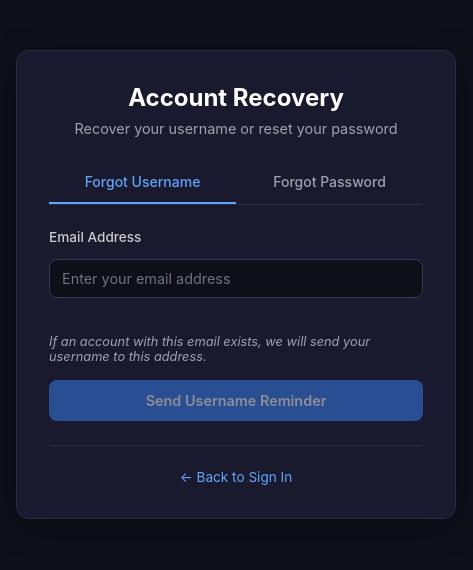
ForgotCredentialsView › submits forgot password request
This screenshot has width=473, height=570.
Click the tab with test id "tab-password".
click(330, 182)  # box 236,160 -> 423,204
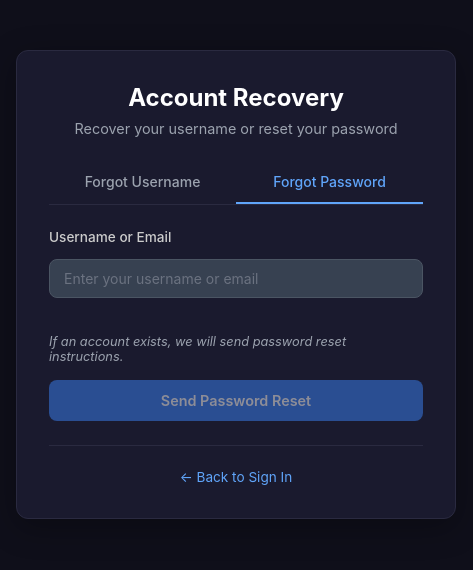
Type "testuser" into the field with test id "forgot-username-or-email".
click(236, 278); type("testuser")  # box 49,258 -> 423,298
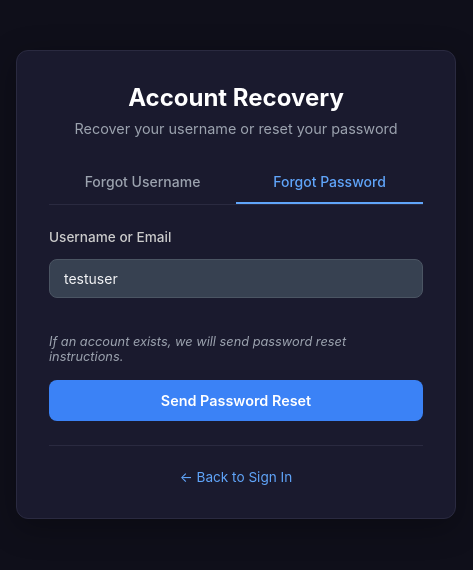
Click the button with test id "forgot-password-submit".
click(236, 400)  # box 49,380 -> 423,420
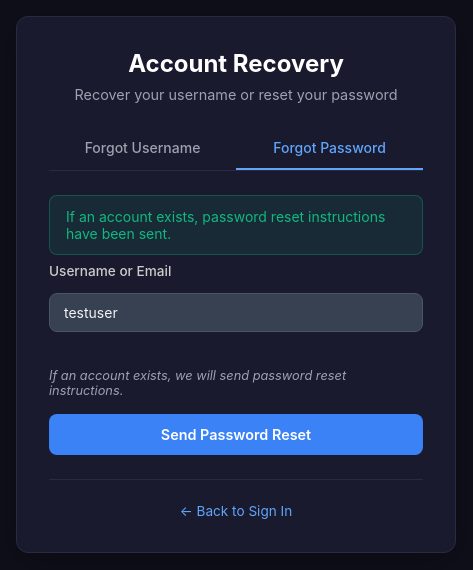
expect the message "If an account exists, password reset instructions have been sent." is shown: met, box 49,194 -> 423,254
